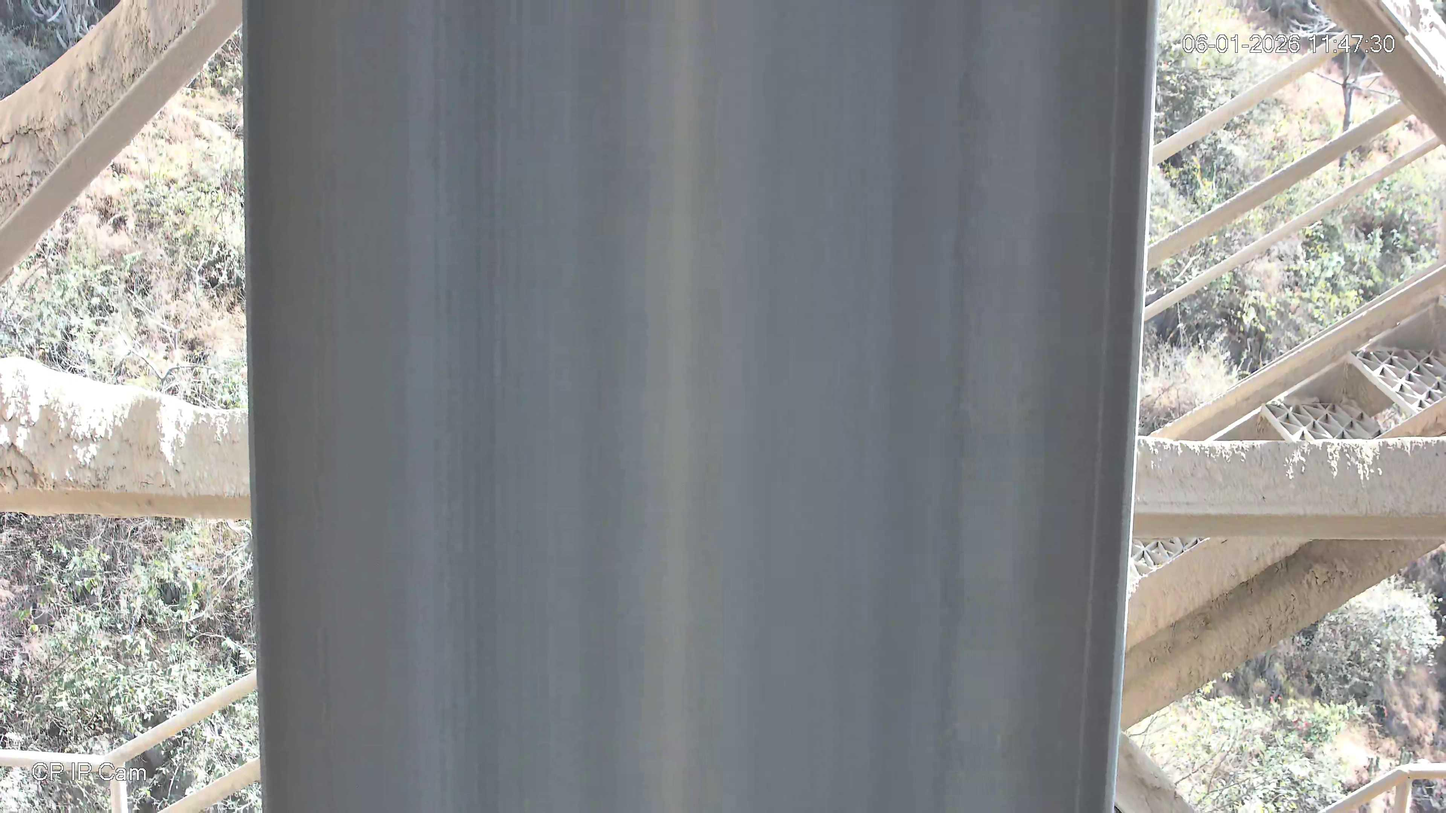belt_roi: (240, 0, 1158, 813)
